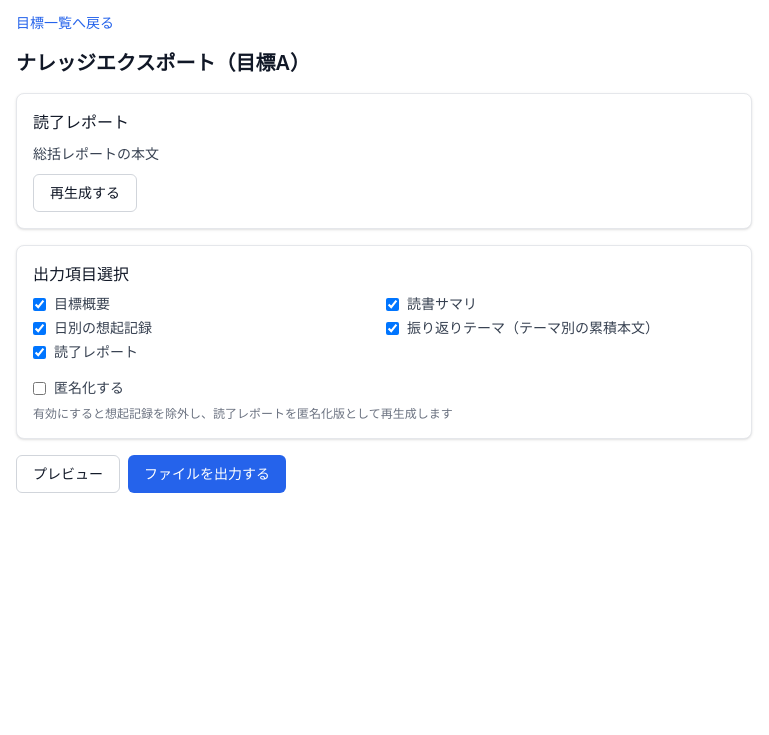
it: KnowledgeExportPage の学習サマリ › shows the record-days summary for a reading goal
Click the button "プレビュー" at (68,474), box [16,455,120,493]
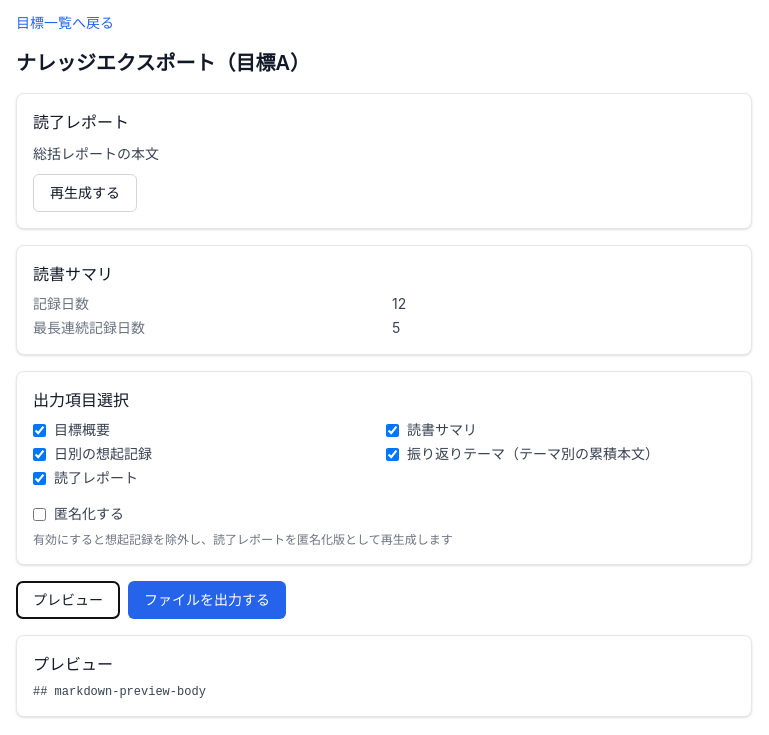
Expected: the heading "読書サマリ" is shown, [33,264,113,284]
Expected: the text "12" is shown, [392,295,406,312]
Expected: the text "5" is shown, [392,319,400,336]
